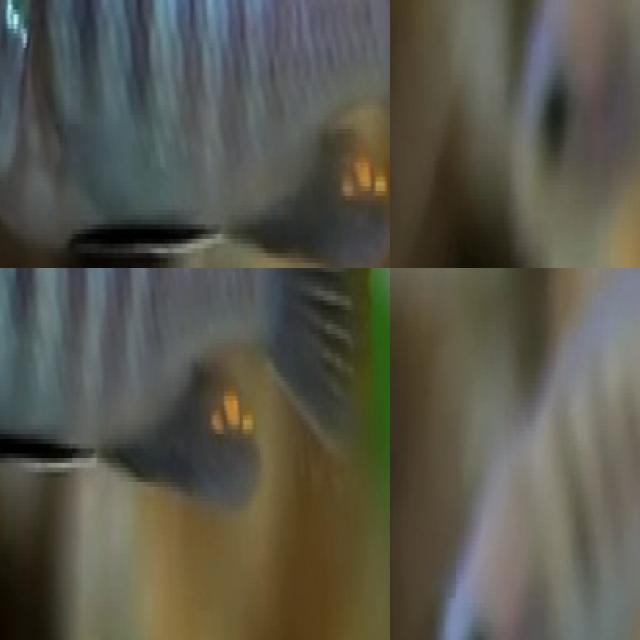fish: (0, 0, 390, 268), (475, 0, 640, 213)
